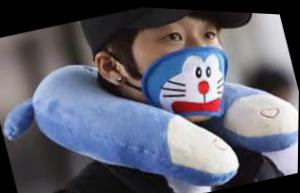WRONG: (124, 6, 241, 137)
